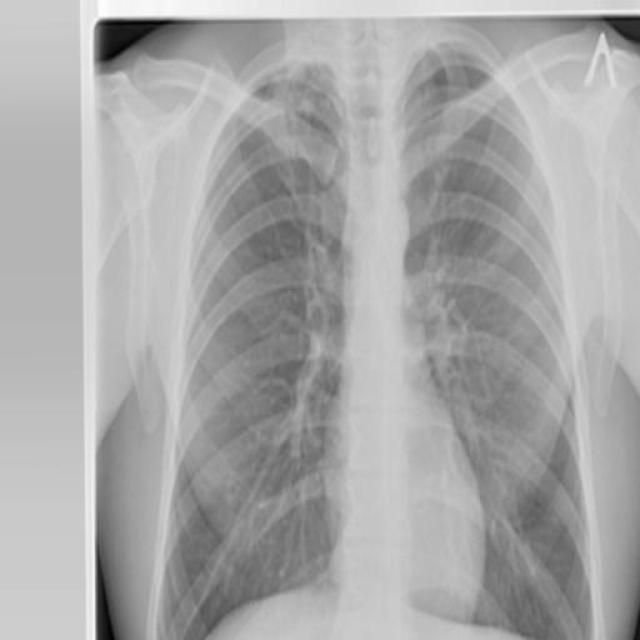tuberculosis: (80, 0, 640, 640)
